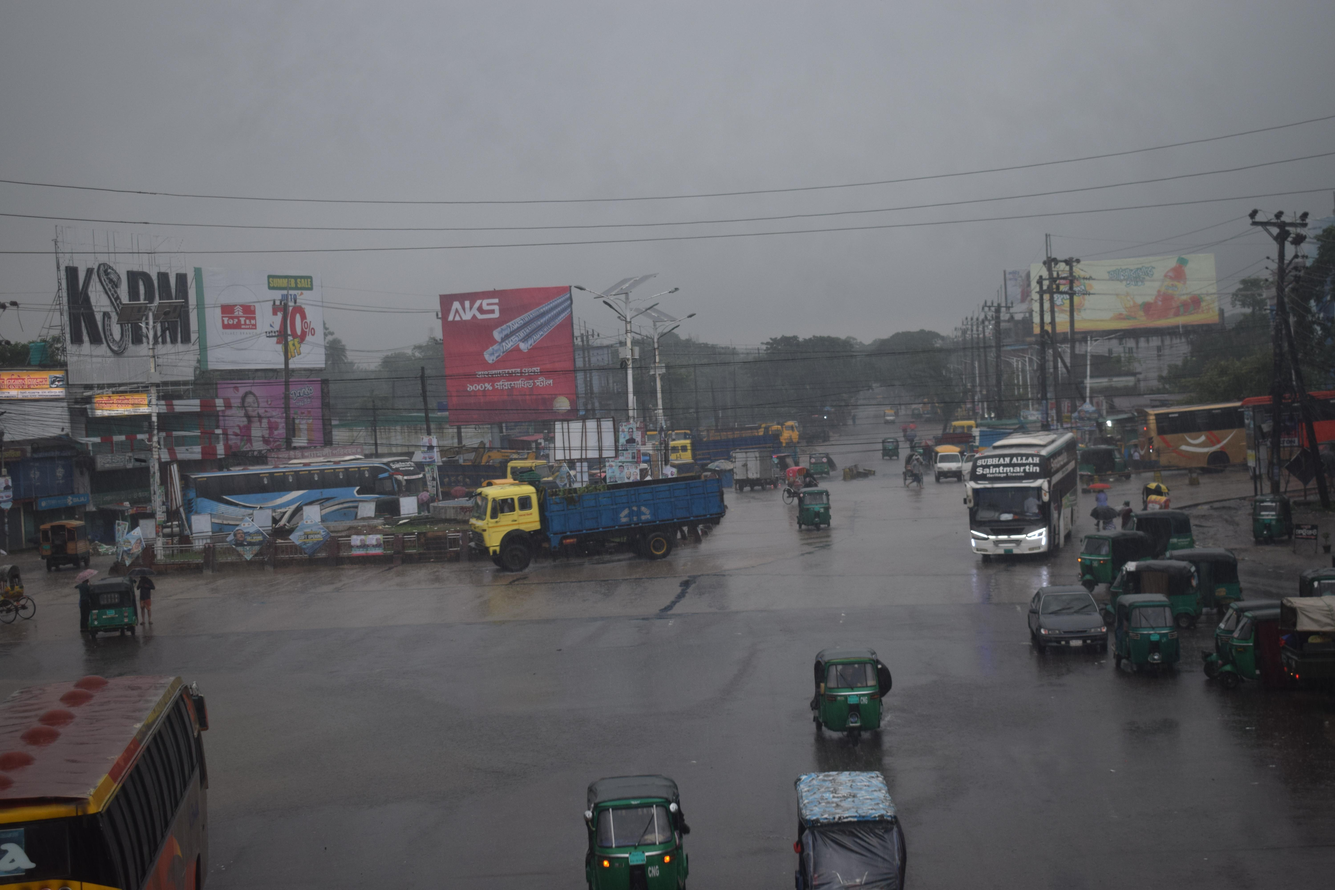Bus: (0, 648, 257, 890), (154, 441, 456, 572), (933, 416, 1100, 577), (1114, 378, 1335, 495)
Car: (772, 751, 928, 890), (1007, 559, 1129, 679), (22, 508, 99, 581), (926, 425, 980, 498)
Truck: (446, 441, 754, 591), (644, 424, 761, 485)
